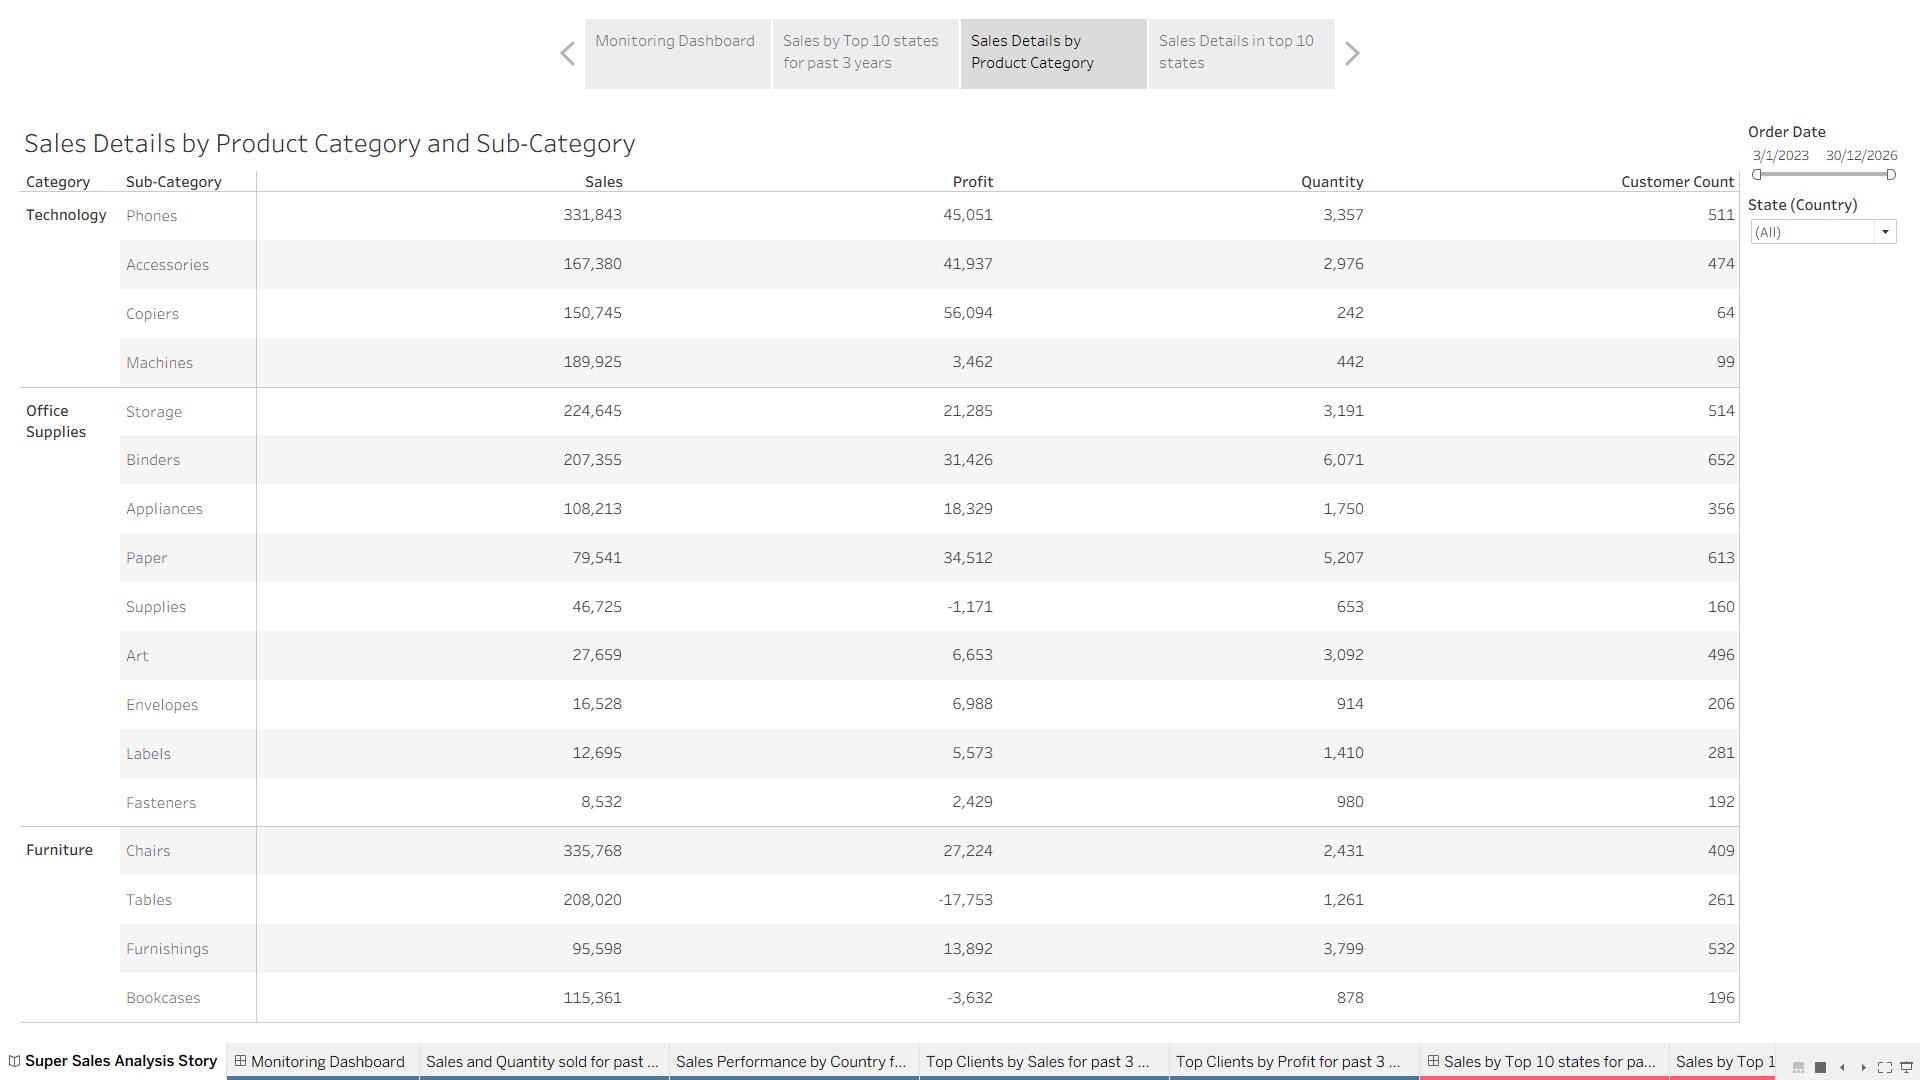

This screenshot's page, from the dashboard's own definition file:
{"tool":"tableau","page":{"name":"Sales Details by Product Category and Sub-Category D","canvas":[1000,1000],"units":"permille","ordinal":1},"visuals":[{"type":"worksheet","title":"Sales Details by Product Category and Sub-Category","mark":"Automatic","rows":["Category","Sub-Category"],"box":[4.8,9.4,893.8,981.2]},{"type":"filter","title":"Sales Details by Product Category and Sub-Category","param":"[federated.16buhzm0bt8dtm1b2378x1yd18d9].[none:Order Date:qk]","box":[898.6,9.4,96.6,85.8]},{"type":"filter","title":"Sales Details by Product Category and Sub-Category","param":"[federated.16buhzm0bt8dtm1b2378x1yd18d9].[none:Calculation_2013771162484739:nk]","box":[898.6,95.2,96.6,71.7]}]}

Visuals, with their boxes on the dashboard's canvas, which has no fixed pixel size, in thousandths of its width and height (x1, y1, x2, y2). These are canvas units, not pixel positions in the 1920x1080 screenshot, which may show the page scaled, cropped or inside an application window:
"Sales Details by Product Category and Sub-Category" worksheet: 5 9 899 991
"Sales Details by Product Category and Sub-Category" filter: 899 9 995 95
"Sales Details by Product Category and Sub-Category" filter: 899 95 995 167
